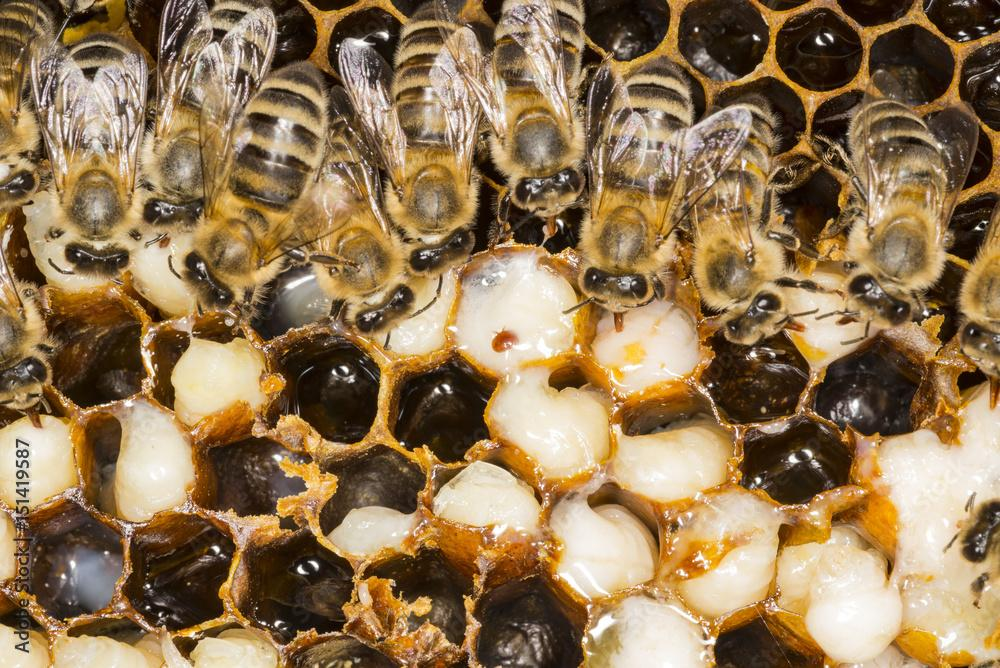worker-bee: (579, 58, 749, 331), (338, 0, 491, 275), (181, 41, 329, 309), (835, 71, 977, 335), (434, 0, 585, 242), (140, 0, 276, 240), (691, 96, 819, 344), (25, 32, 148, 286), (310, 86, 415, 333)
